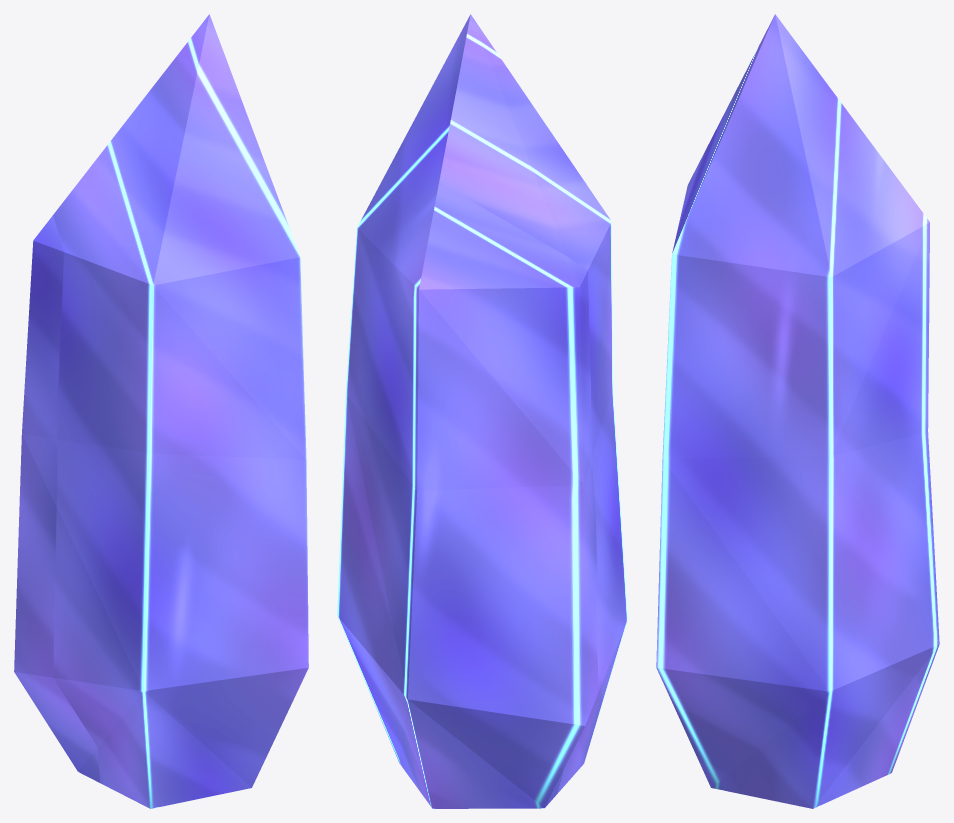
Rendered from forest_crystal_purple.glb.
The picture shows the model from 3 angles, left to right: view 1: azimuth 30°, elevation 25°; view 2: azimuth 150°, elevation 25°; view 3: azimuth 270°, elevation 25°; orthographic projection. The views are drawn at different scales.
Visible parts, largest first — view 1: Faceted magical crystal.001; view 2: Faceted magical crystal.001; view 3: Faceted magical crystal.001.
Boxes of the visible parts, x1=… form: Faceted magical crystal.001: x1=14, y1=14, x2=308, y2=808; Faceted magical crystal.001: x1=337, y1=14, x2=627, y2=808; Faceted magical crystal.001: x1=656, y1=14, x2=939, y2=808.
Size of the model in its own units: 0.5983 by 1.64 by 0.548.
Materials: 2 (2 with a texture image).
